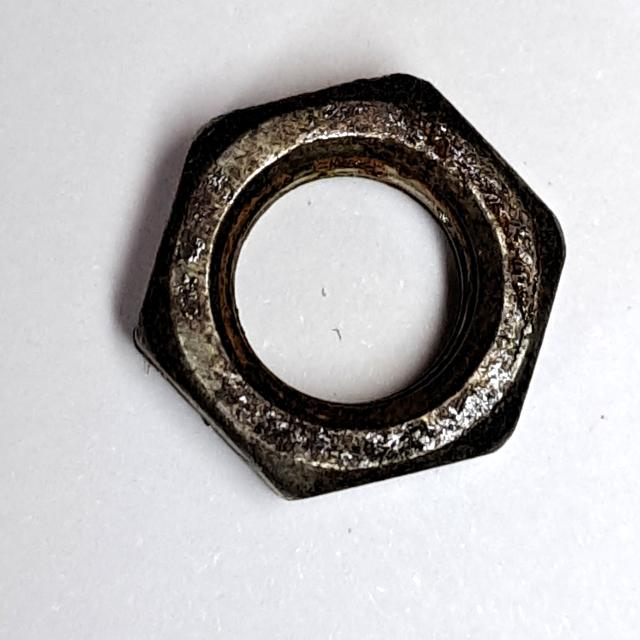Rust: (117, 64, 573, 509)
